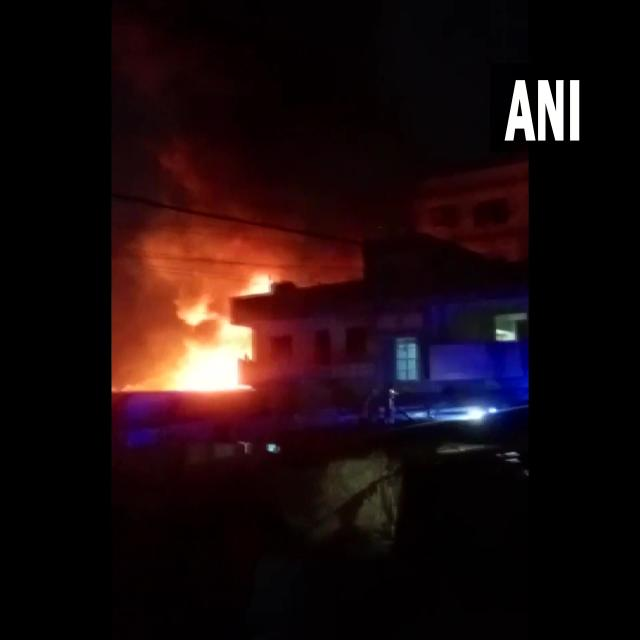fire: (177, 296, 254, 391)
